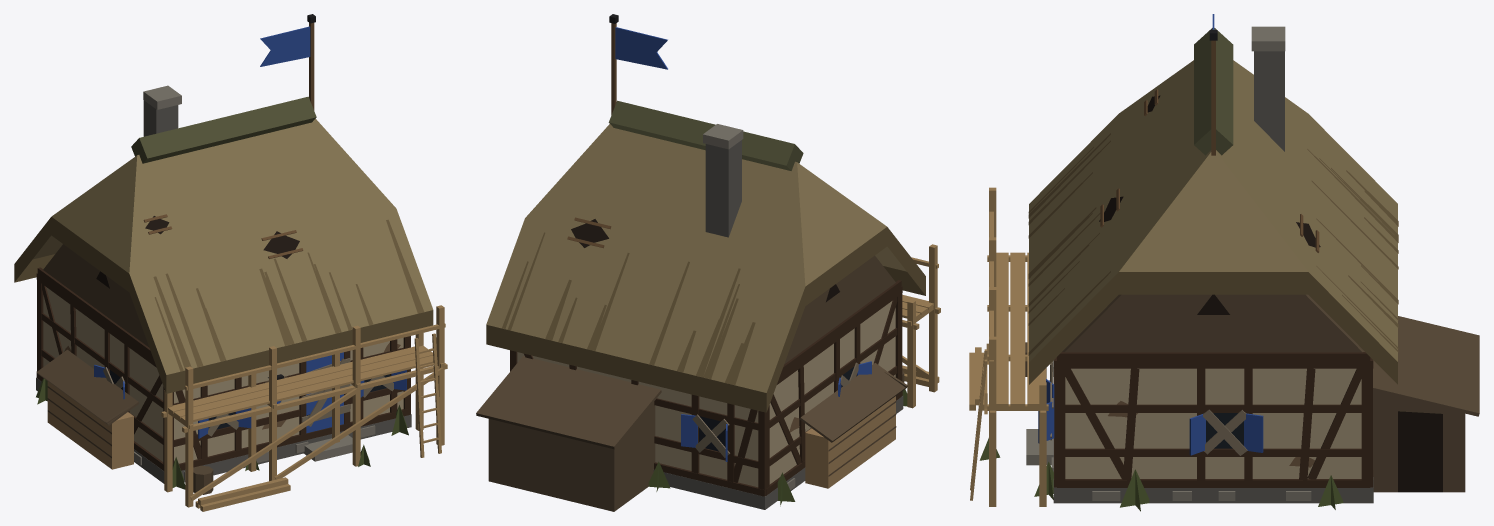
Rendered from fachwerkhaus.glb.
3 views of the same model, side by side, from view 1: azimuth 30°, elevation 25°; view 2: azimuth 150°, elevation 25°; view 3: azimuth 270°, elevation 25° (orthographic). The views are drawn at different scales.
Visible parts, largest first — view 1: Haus, Geruest, Leerstand, Fahne; view 2: Haus, Geruest, Leerstand, Fahne; view 3: Haus, Geruest, Leerstand, Fahne.
Boxes of the visible parts, <box> form: Haus: <box>14,85,433,494</box>; Geruest: <box>161,305,447,511</box>; Leerstand: <box>36,214,408,489</box>; Fahne: <box>260,14,315,110</box>; Haus: <box>476,100,925,511</box>; Geruest: <box>902,244,940,408</box>; Leerstand: <box>567,217,907,506</box>; Fahne: <box>609,14,667,114</box>; Haus: <box>1025,26,1479,503</box>; Geruest: <box>969,187,1048,506</box>; Leerstand: <box>979,89,1343,511</box>; Fahne: <box>1209,14,1217,155</box>.
Size of the model in its own units: 7.31 by 8.9 by 9.13.
